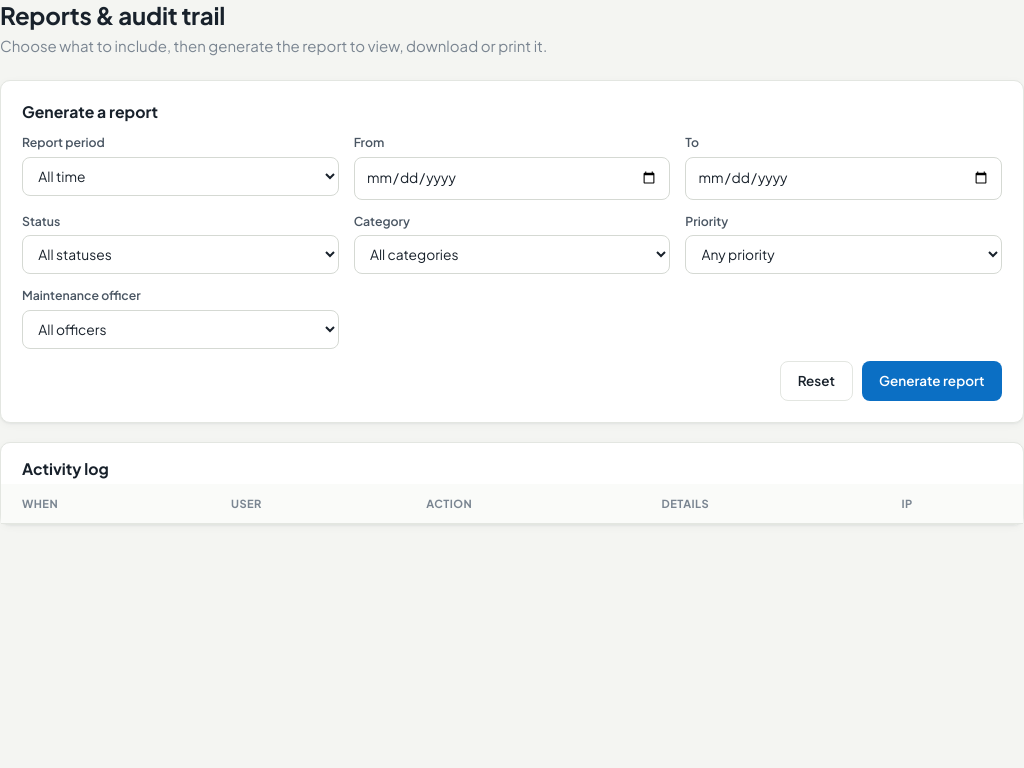
it: Reports page › generating a report opens it in a modal with download and print options
The width and height of the screenshot is (1024, 768).
Select "Completed" in the dropdown labelled "Status" at point(180, 255), box [22,235,339,274]
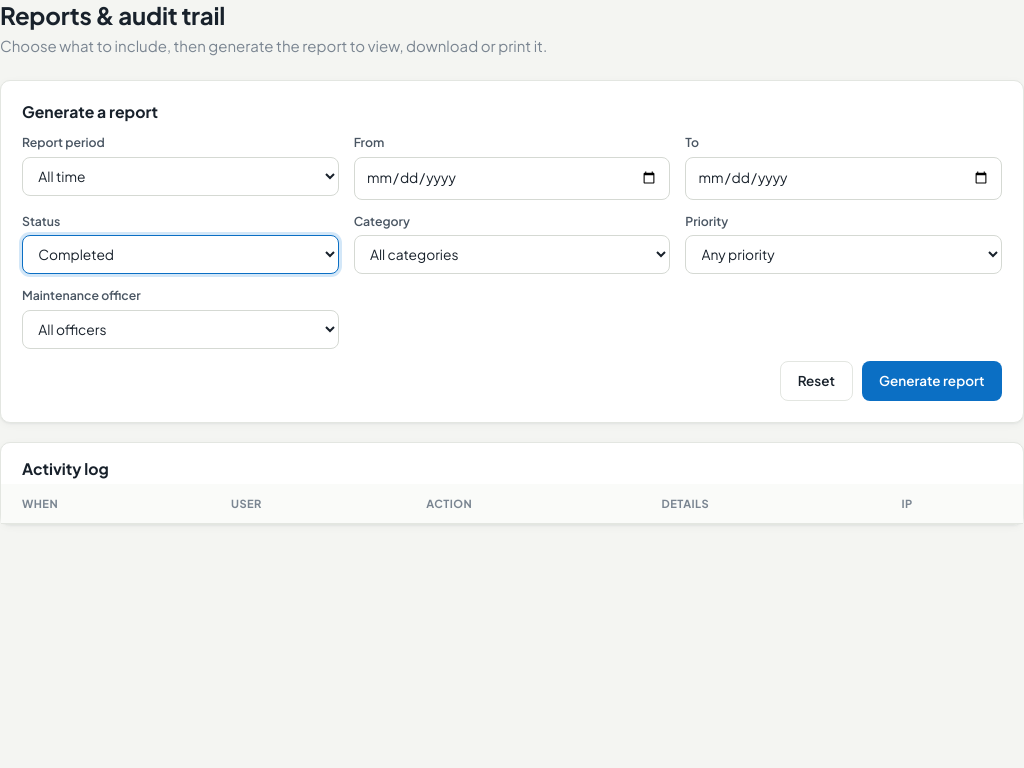
Click the button "Generate report" at point(932, 381), box [862,361,1002,401]
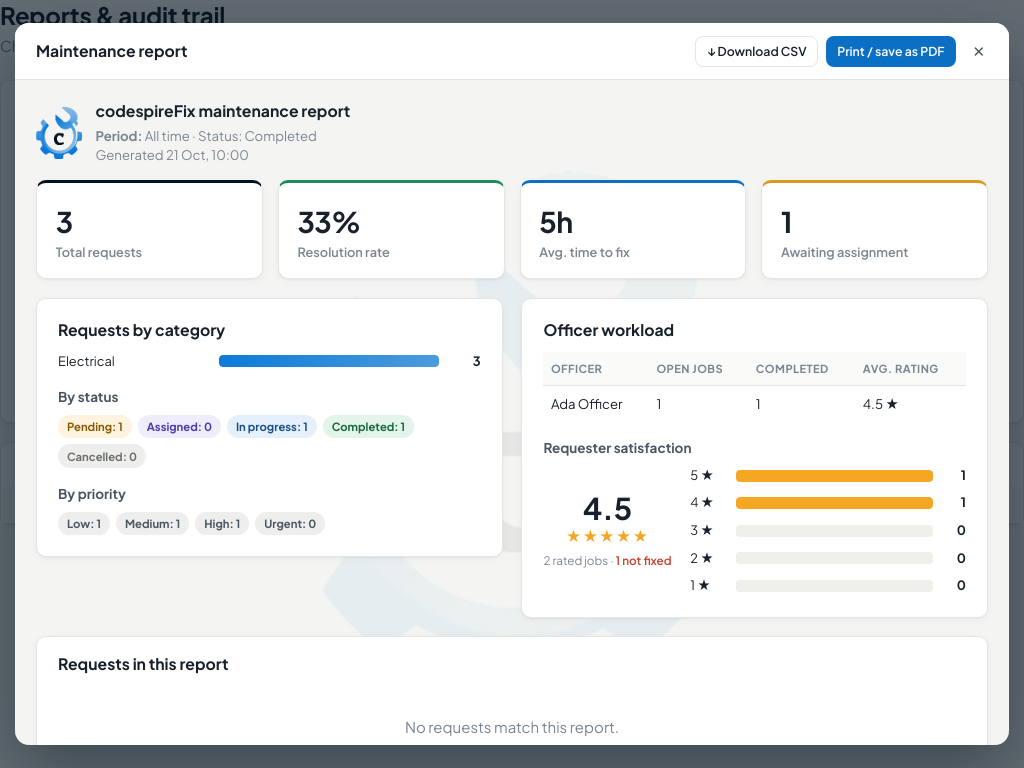
Check: the text "Status: Completed" is shown, box [198,127,317,144]
Check: the heading "Requester satisfaction" is shown, box [543,439,691,456]
Check: the text "1 not fixed" is shown, box [616,553,672,568]
